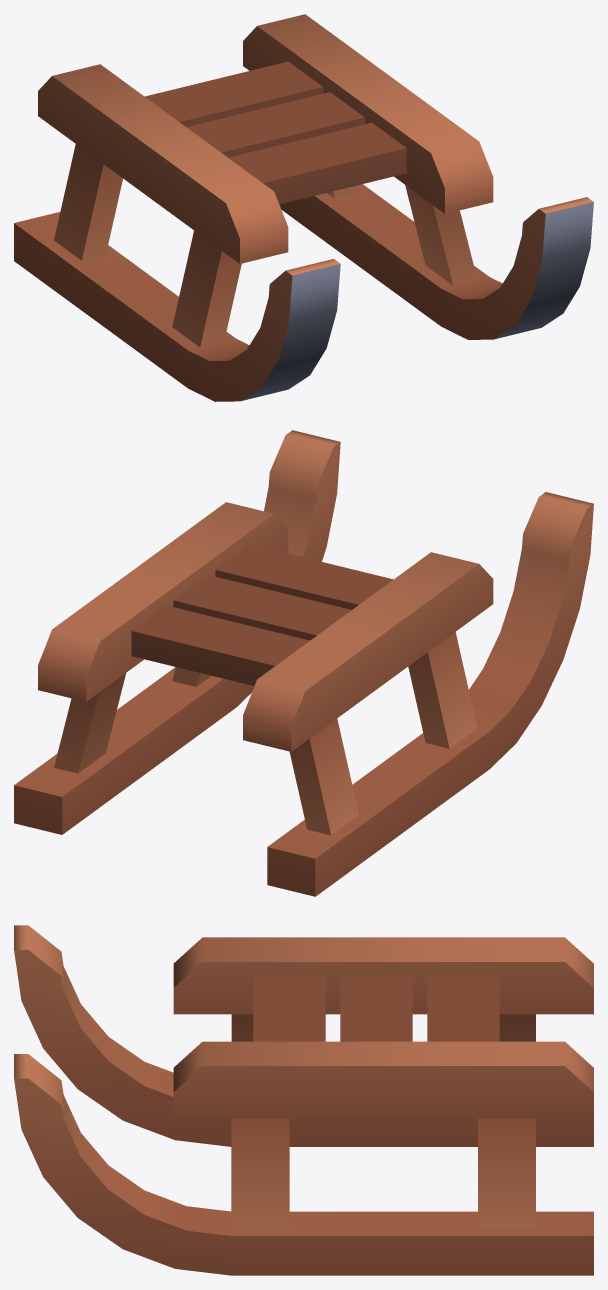
File: sled.glb
The picture shows the model from 3 angles, top to bottom: view 1: azimuth 30°, elevation 25°; view 2: azimuth 150°, elevation 25°; view 3: azimuth 270°, elevation 25°; orthographic projection. The views are drawn at different scales.
Visible parts, largest first — view 1: sled; view 2: sled; view 3: sled.
Boxes of the visible parts, x1,y1,x2,y2 form: sled: [14, 14, 593, 401]; sled: [14, 430, 593, 896]; sled: [14, 925, 593, 1275].
Bounding box in the file's own units: 0.625 × 0.3753 × 1.
